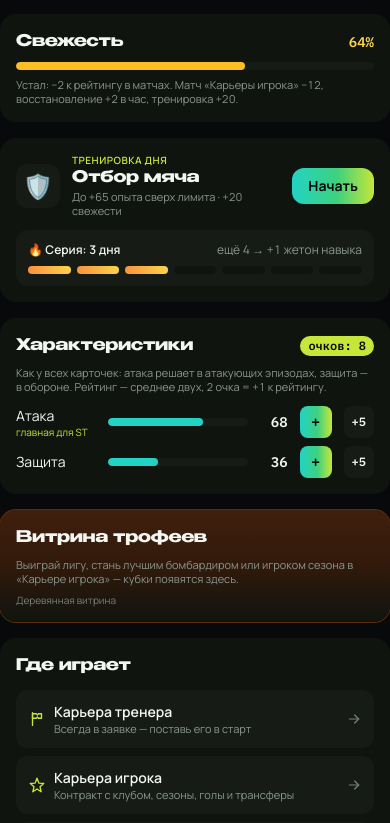
Scenario: MyPlayerPage › spends attribute points and shows the new frame on a tier change
(page scrolled)
Expected: the text "главная для ST" is shown, [16, 426, 96, 438]
Click the button named "+5 Атака" at coordinates (359, 422), box [344, 406, 374, 438]
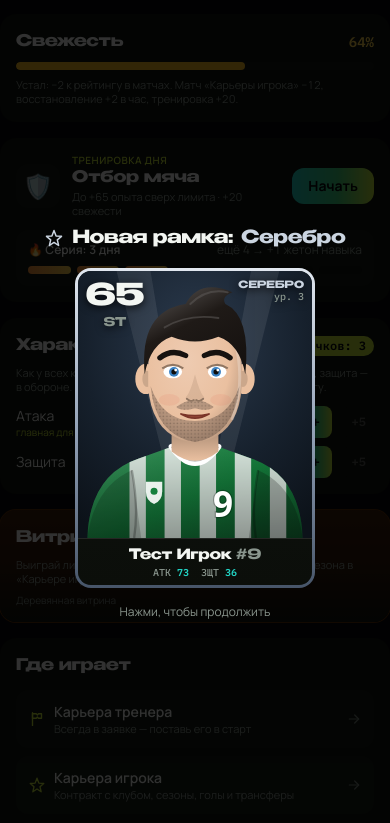
Now the text "Нажми, чтобы продолжить" is shown, box [120, 604, 270, 620]
